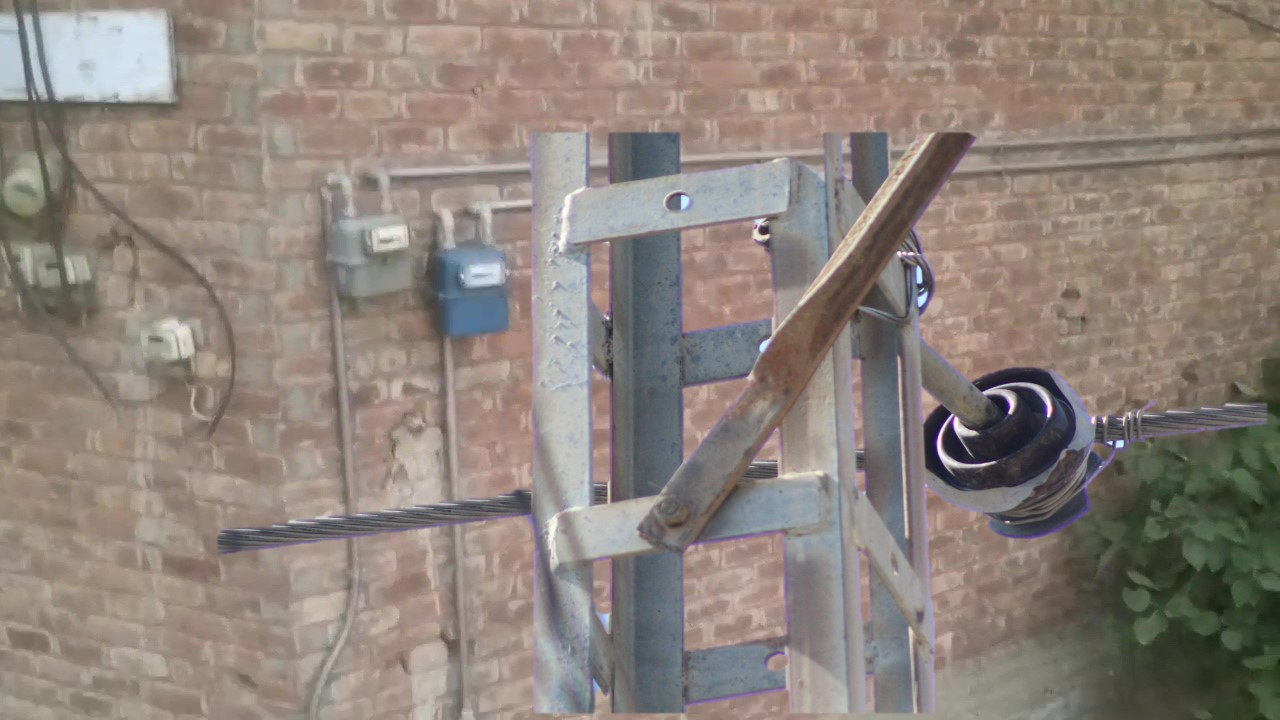defect_pin: (922, 360, 1112, 547)
